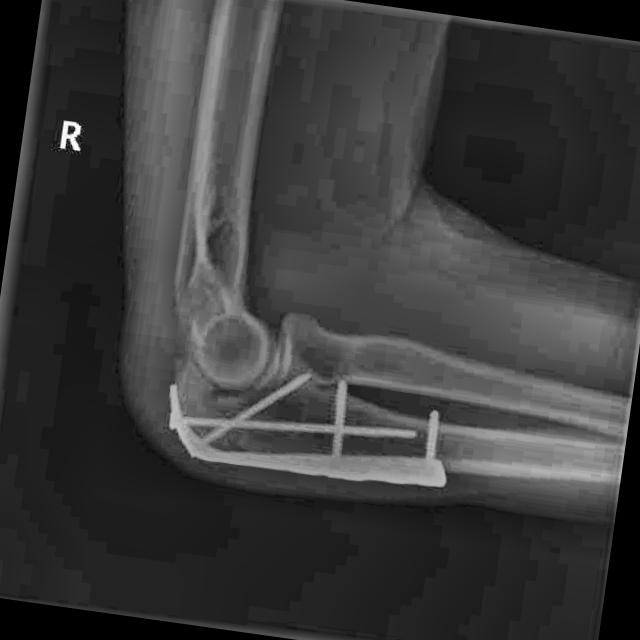elbow positive: (214, 423, 259, 458)
